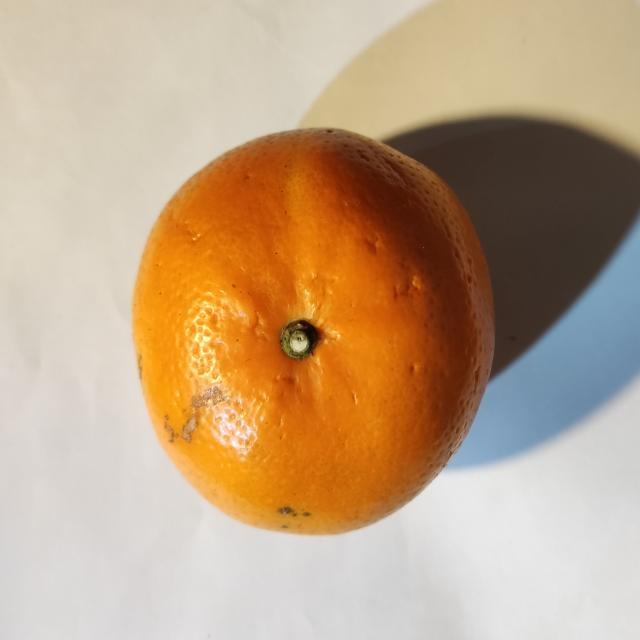orange: (134, 130, 494, 533)
